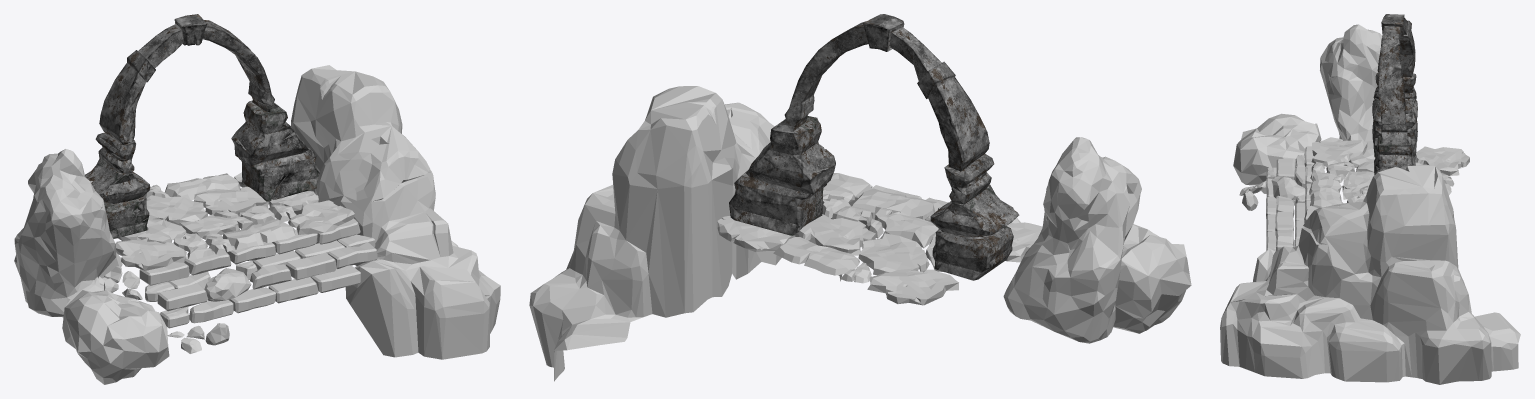
File: portale.fbx
3 views of the same model, side by side, from view 1: azimuth 30°, elevation 25°; view 2: azimuth 150°, elevation 25°; view 3: azimuth 270°, elevation 25° (orthographic). The views are drawn at different scales.
Parts seen in each view (by area): view 1: portale_rocce, portale_scalinata, portale_arco; view 2: portale_rocce, portale_arco, portale_scalinata; view 3: portale_rocce, portale_scalinata, portale_arco.
Boxes of the visible parts, x1,y1,x2,y2 form: portale_rocce: [14, 65, 500, 384]; portale_scalinata: [116, 172, 377, 328]; portale_arco: [85, 14, 319, 238]; portale_rocce: [529, 86, 1191, 381]; portale_arco: [729, 14, 1019, 280]; portale_scalinata: [717, 173, 1042, 305]; portale_rocce: [1220, 24, 1520, 384]; portale_scalinata: [1266, 137, 1469, 250]; portale_arco: [1372, 14, 1417, 174].
Bounding box in the file's own units: 737 × 496 × 511.
